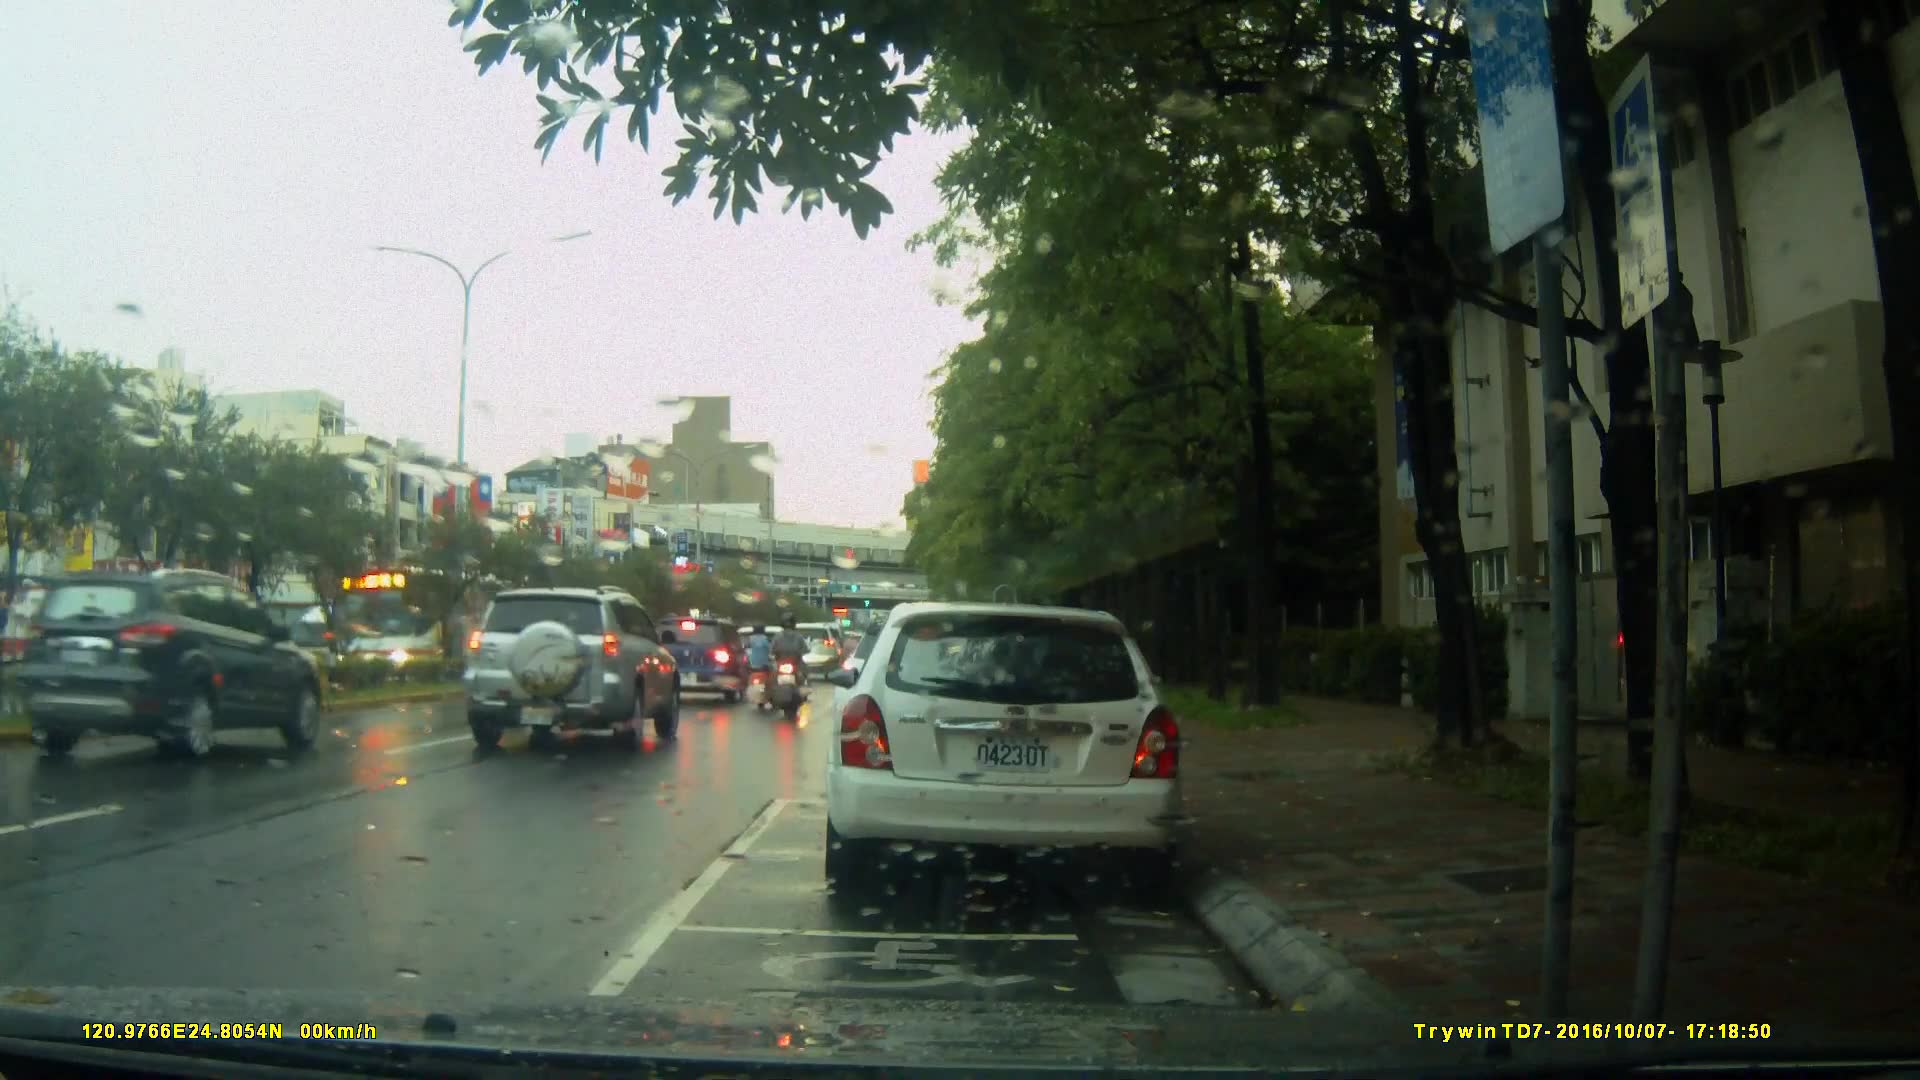rider: (768, 609, 810, 722), (748, 619, 778, 706)
vehicle: (820, 602, 1188, 898), (2, 566, 325, 769), (460, 584, 685, 750), (644, 613, 760, 705)
